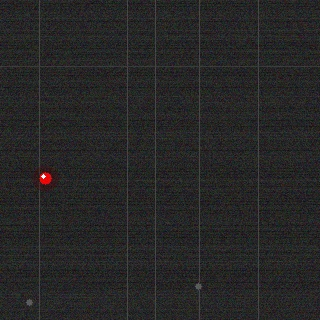red_fault: (37, 170, 53, 186)
